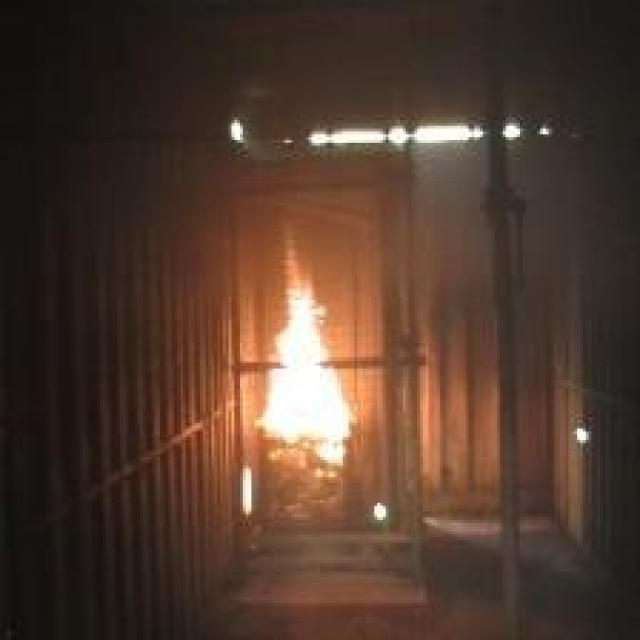fire: (259, 233, 364, 464)
